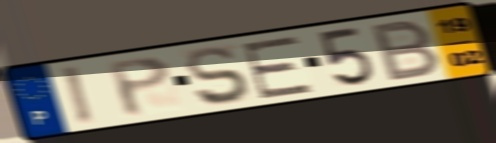5: (316, 24, 376, 89)
B: (370, 17, 444, 84)
E: (239, 33, 316, 101)
I: (58, 63, 97, 127)
P: (104, 54, 174, 119)
S: (183, 44, 253, 108)
